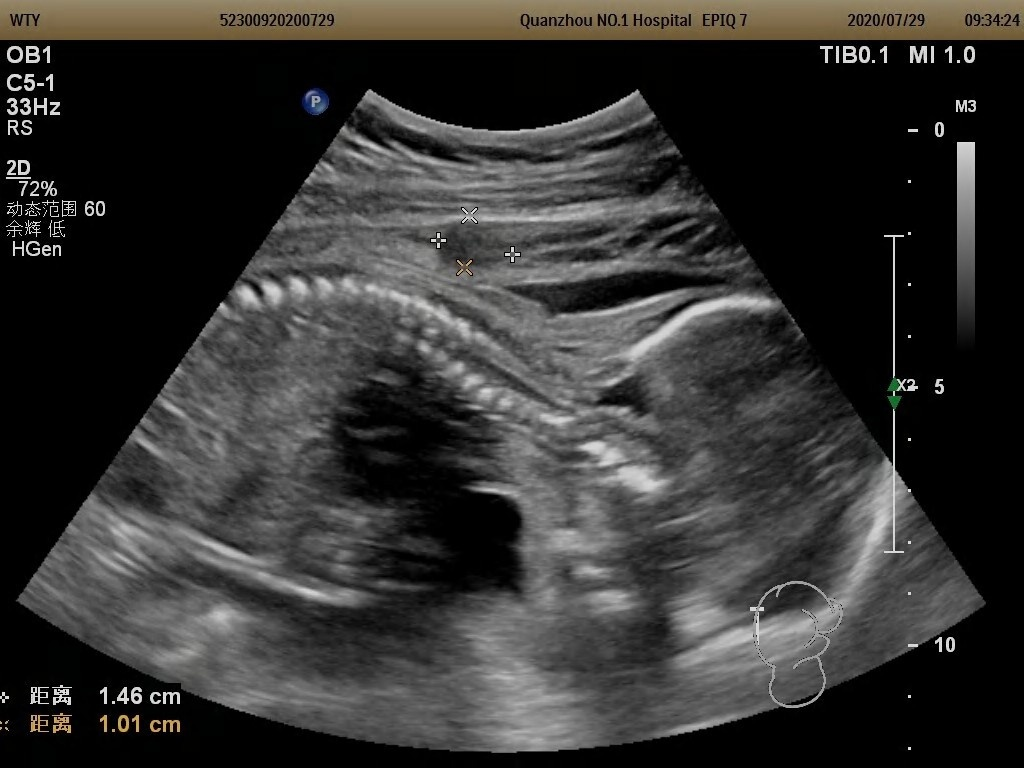肌瘤: (438, 219, 505, 266)
